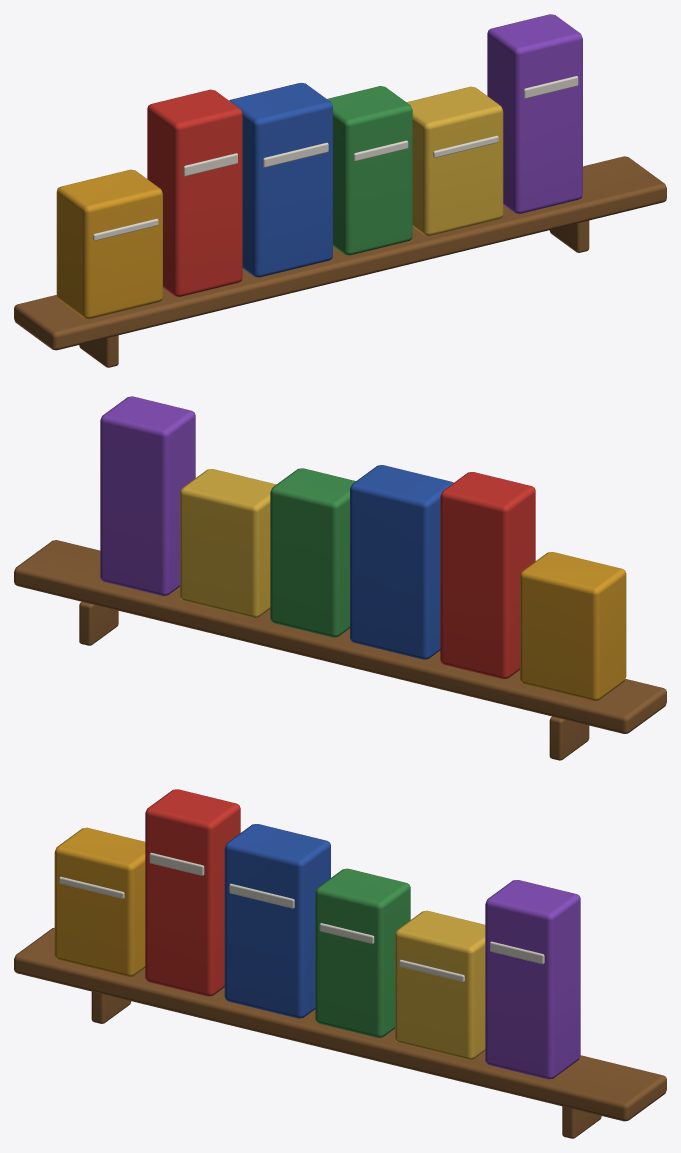
The model's file is furn_shelf_wall.glb.
The picture shows the model from 3 angles, top to bottom: view 1: azimuth 30°, elevation 25°; view 2: azimuth 150°, elevation 25°; view 3: azimuth 330°, elevation 25°; orthographic projection.
Parts seen in each view (by area): view 1: furn_shelf_wall_main; view 2: furn_shelf_wall_main; view 3: furn_shelf_wall_main.
Part boxes in pixels (x1=…): furn_shelf_wall_main: x1=14, y1=14, x2=666, y2=367; furn_shelf_wall_main: x1=14, y1=396, x2=666, y2=760; furn_shelf_wall_main: x1=14, y1=789, x2=666, y2=1138.
Size of the model in its own units: 1.7 by 0.62 by 0.2.
